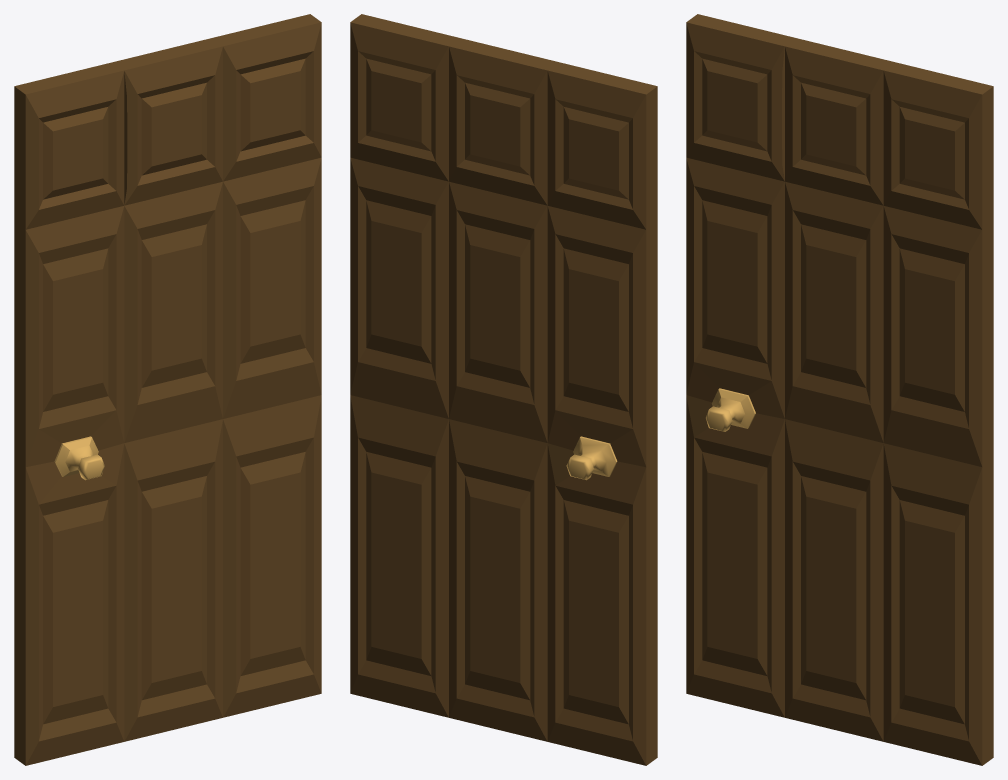
Rendered from Door.fbx.
The picture shows the model from 3 angles, left to right: view 1: azimuth 30°, elevation 25°; view 2: azimuth 150°, elevation 25°; view 3: azimuth 330°, elevation 25°; orthographic projection.
Visible parts, largest first — view 1: Door; view 2: Door; view 3: Door.
Part boxes in pixels (bbox=[...]): Door: bbox=[14, 14, 321, 765]; Door: bbox=[350, 14, 657, 765]; Door: bbox=[686, 14, 993, 765].
Bounding box in the file's own units: 3 × 6.5 × 0.885.
